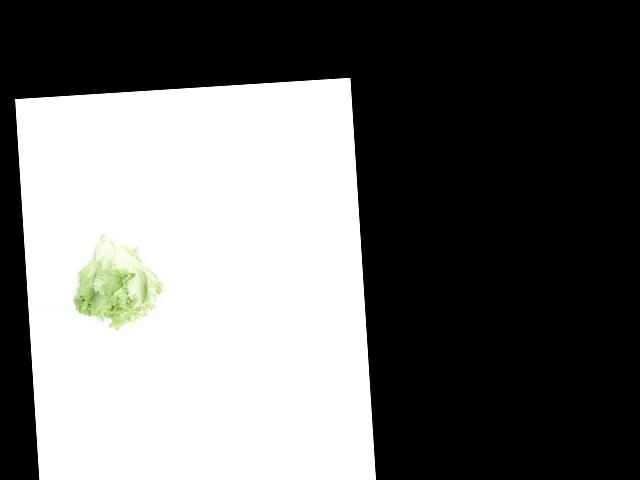lettuce: (71, 220, 171, 333)
